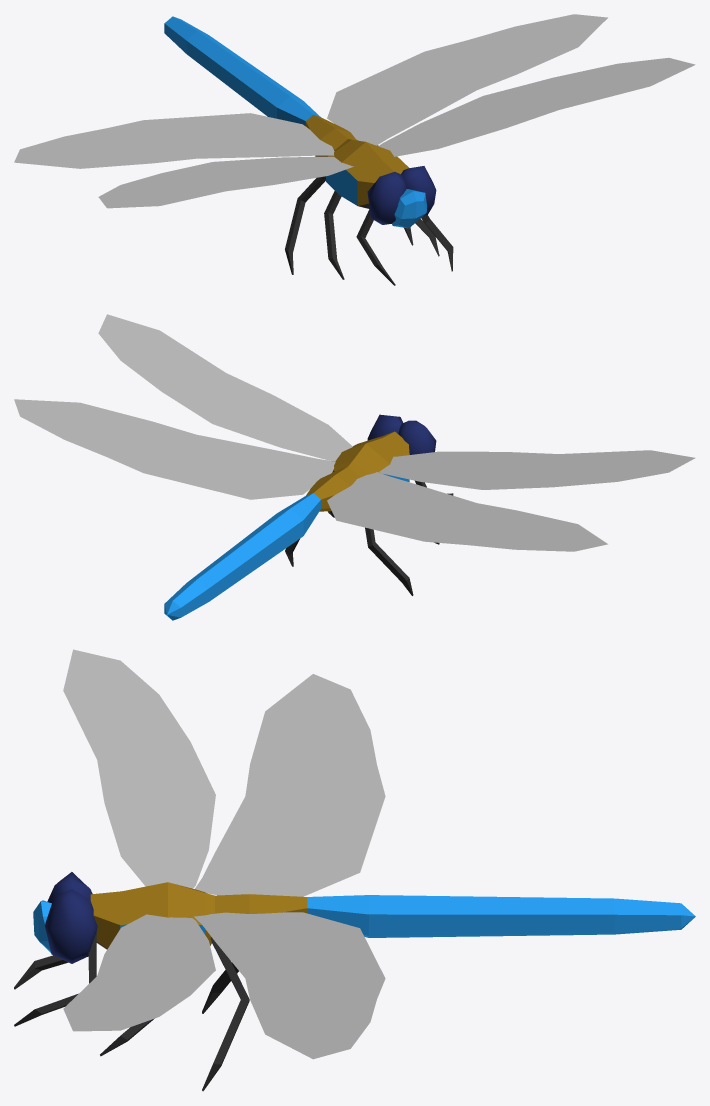
Rendered from dragonfly.glb.
3 views of the same model, one above another, from view 1: azimuth 30°, elevation 25°; view 2: azimuth 150°, elevation 25°; view 3: azimuth 270°, elevation 25° (orthographic). The views are drawn at different scales.
Visible parts, largest first — view 1: Geo_Dragonfly; view 2: Geo_Dragonfly; view 3: Geo_Dragonfly.
Boxes of the visible parts, box(x1,y1,x2,y2) form: Geo_Dragonfly: box(14, 14, 695, 285); Geo_Dragonfly: box(14, 314, 695, 620); Geo_Dragonfly: box(14, 649, 695, 1091).
Bounding box in the file's own units: 13.33 × 3.42 × 9.96.
Materials: 2 (1 with a texture image).
